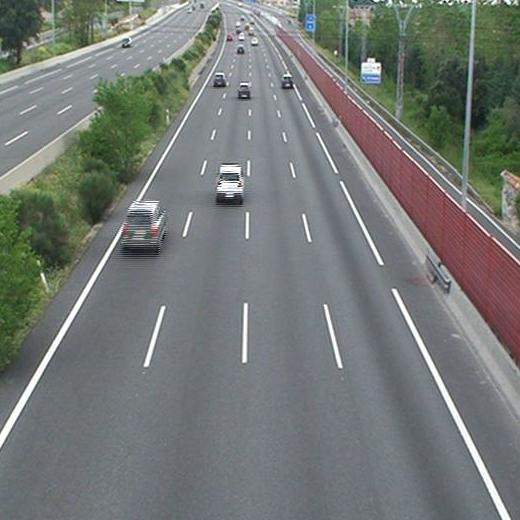car: (122, 202, 165, 248), (216, 165, 243, 198), (238, 83, 250, 97), (214, 73, 226, 86), (282, 74, 293, 87), (237, 45, 245, 54), (250, 37, 258, 45)
